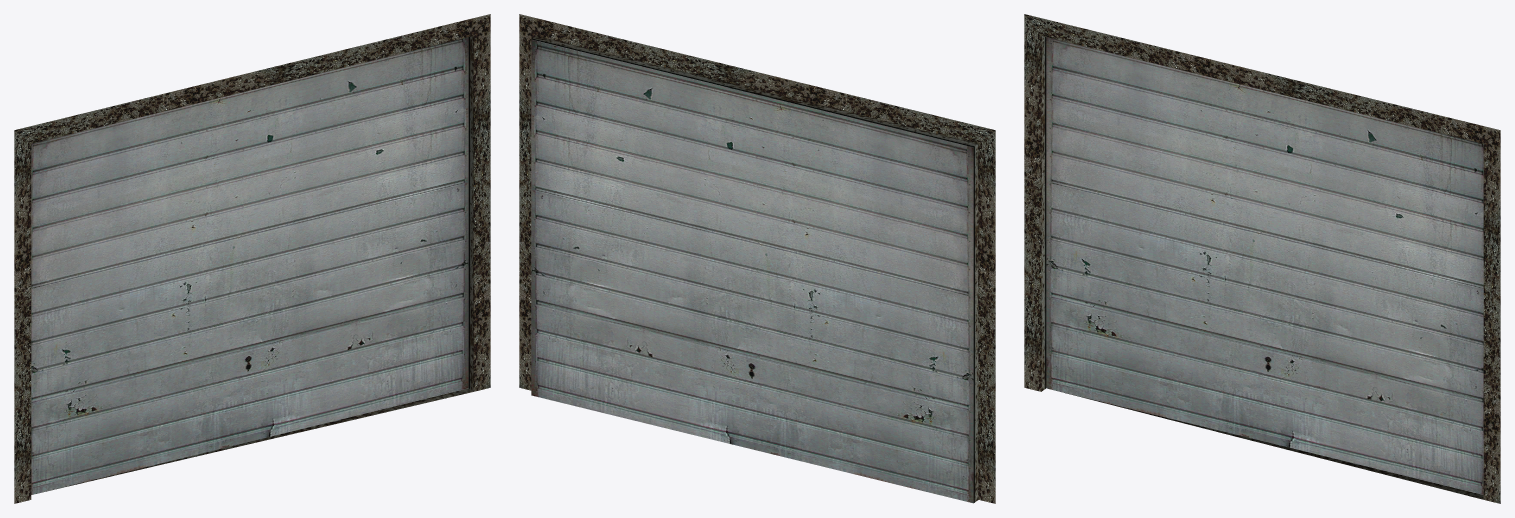
File: garage_door1.fbx
3 views of the same model, side by side, from view 1: azimuth 30°, elevation 25°; view 2: azimuth 150°, elevation 25°; view 3: azimuth 330°, elevation 25° (orthographic).
Parts seen in each view (by area): view 1: garage_door1.001; view 2: garage_door1.001; view 3: garage_door1.001.
Part boxes in pixels (x1,y1,x2,y2): garage_door1.001: (14, 14, 490, 503); garage_door1.001: (519, 14, 995, 503); garage_door1.001: (1024, 14, 1500, 503).
Size of the model in its own units: 5.71 by 4.28 by 0.1019.
Materials: 2 (2 with a texture image).
